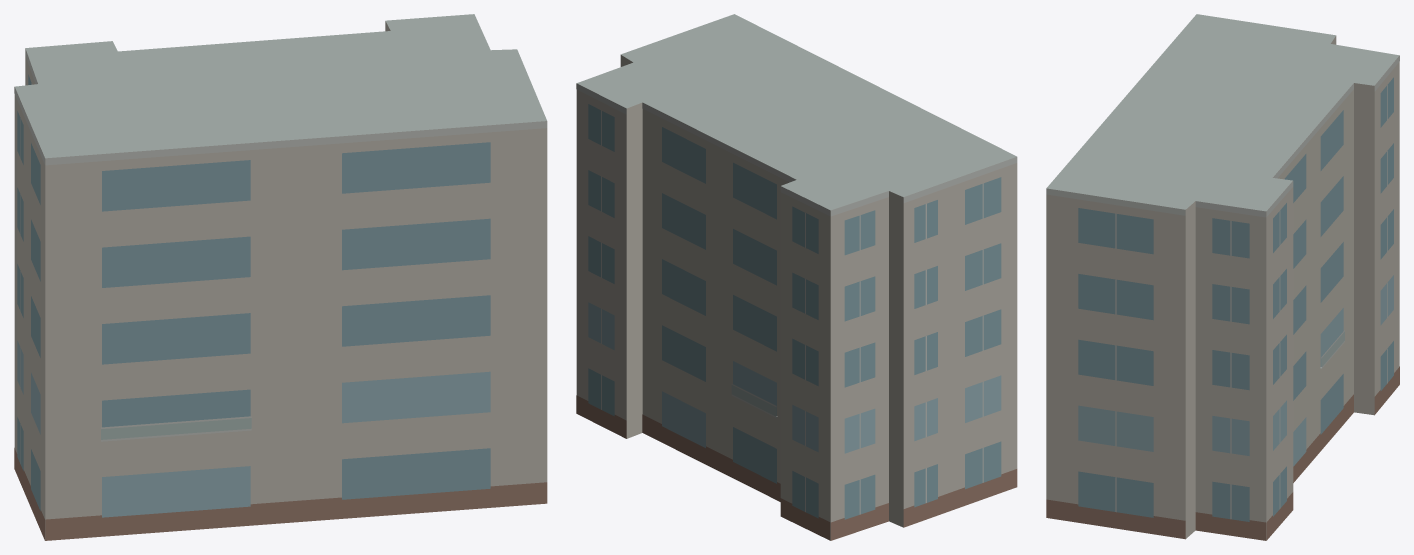
The model's file is survey-upis-32894459.glb.
The picture shows the model from 3 angles, left to right: view 1: azimuth 30°, elevation 25°; view 2: azimuth 150°, elevation 25°; view 3: azimuth 270°, elevation 25°; orthographic projection. The views are drawn at different scales.
Parts seen in each view (by area): view 1: survey-upis-32894459.tmp; view 2: survey-upis-32894459.tmp; view 3: survey-upis-32894459.tmp.
Boxes of the visible parts, x1,y1,x2,y2 form: survey-upis-32894459.tmp: (14,14,547,540); survey-upis-32894459.tmp: (576,14,1017,540); survey-upis-32894459.tmp: (1046,14,1399,540).
Bounding box in the file's own units: 16.98 × 13.2 × 12.84.
